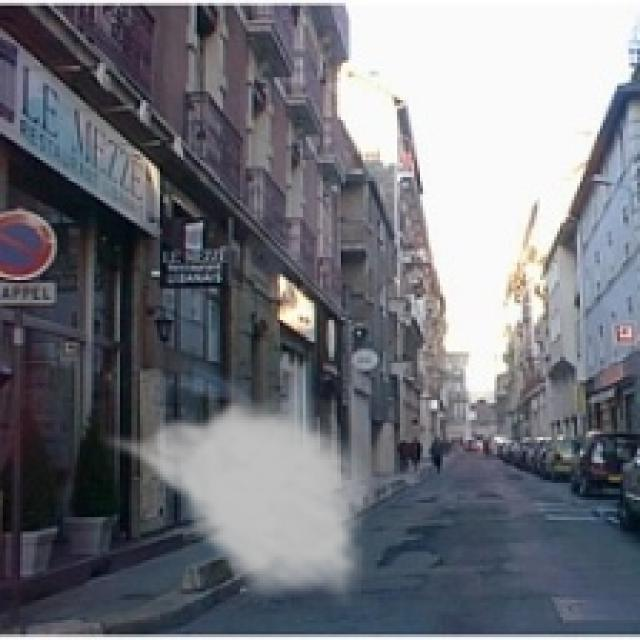Smoke: (97, 392, 377, 608)
